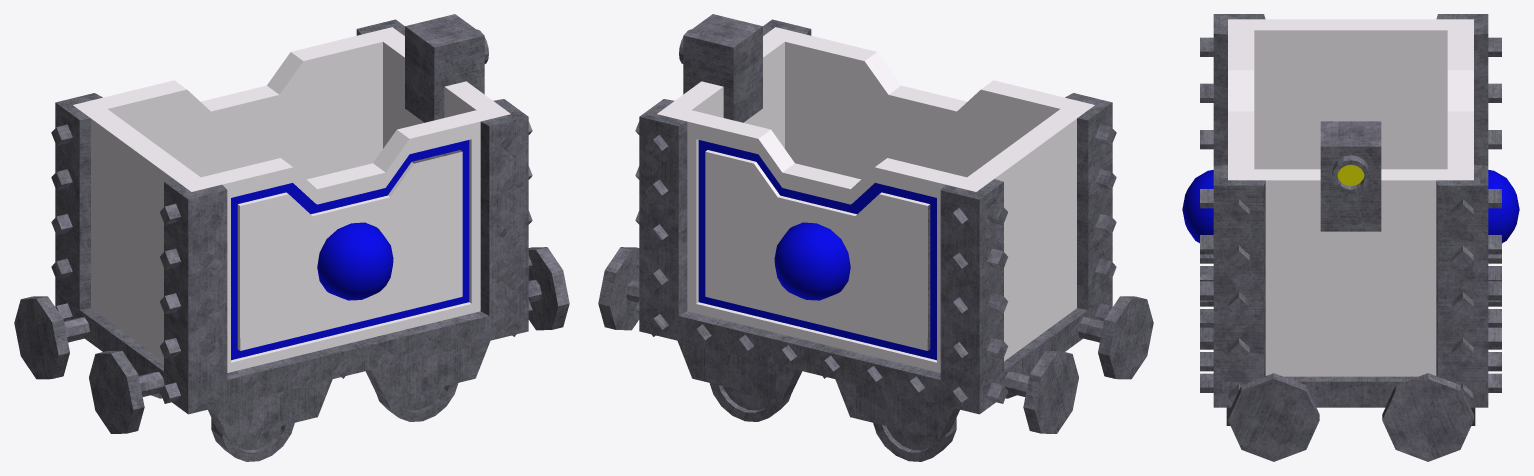
The model's file is car.fbx.
3 renders of one model, left to right at view 1: azimuth 30°, elevation 25°; view 2: azimuth 150°, elevation 25°; view 3: azimuth 270°, elevation 25°, orthographic. The views are drawn at different scales.
Visible parts, largest first — view 1: Cube.001; view 2: Cube.001; view 3: Cube.001.
Boxes of the visible parts, <box> form: Cube.001: <box>14,14,569,461</box>; Cube.001: <box>598,14,1153,461</box>; Cube.001: <box>1182,14,1519,461</box>.
Bounding box in the file's own units: 424 × 313 × 275.
